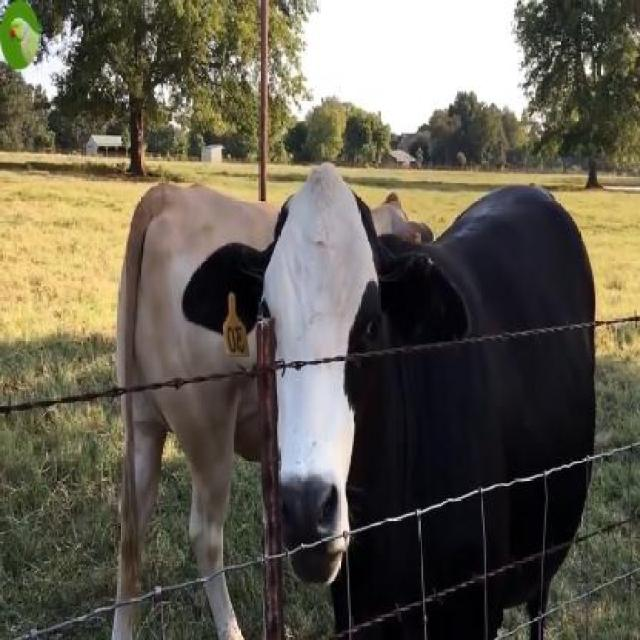Cow: (178, 166, 597, 639)
